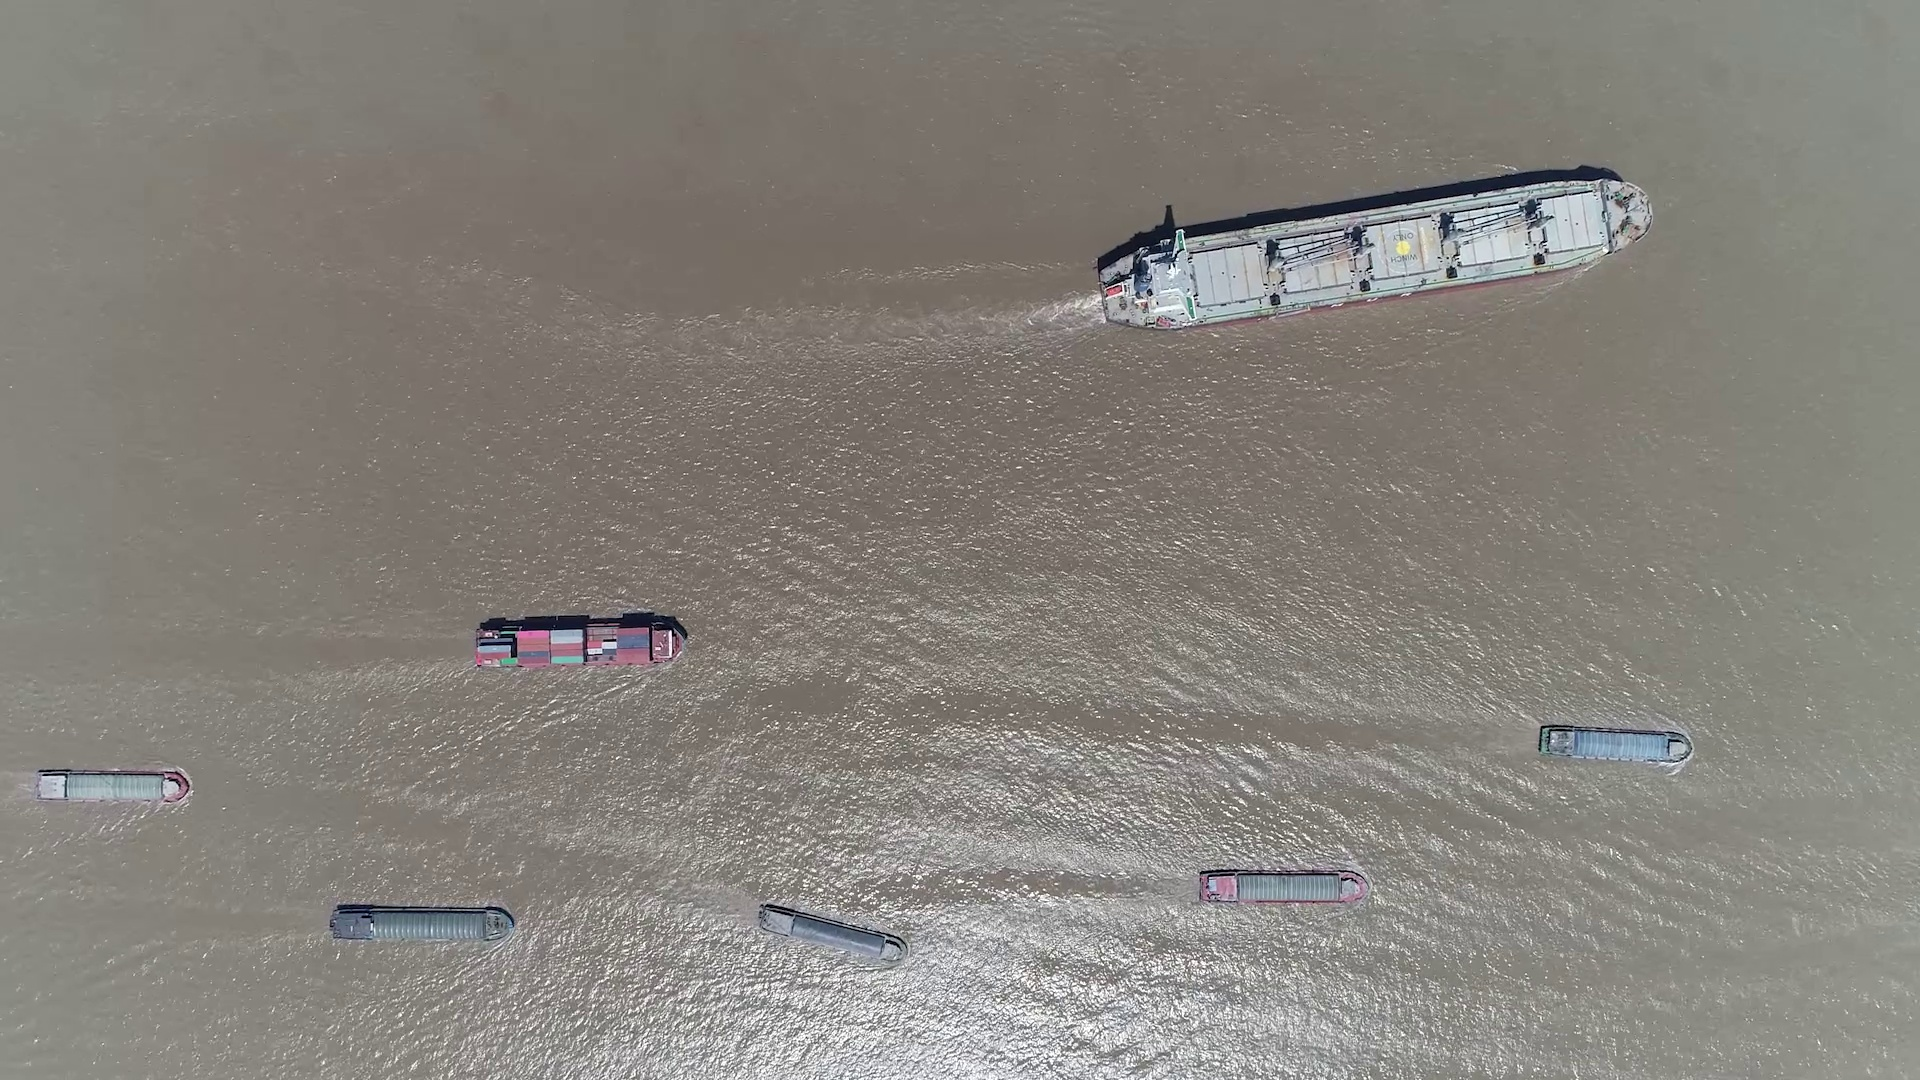ship: (1095, 179, 1655, 328), (476, 618, 684, 669), (757, 903, 905, 963), (328, 905, 512, 943), (1199, 868, 1366, 905), (1539, 725, 1693, 764), (34, 769, 189, 804)
